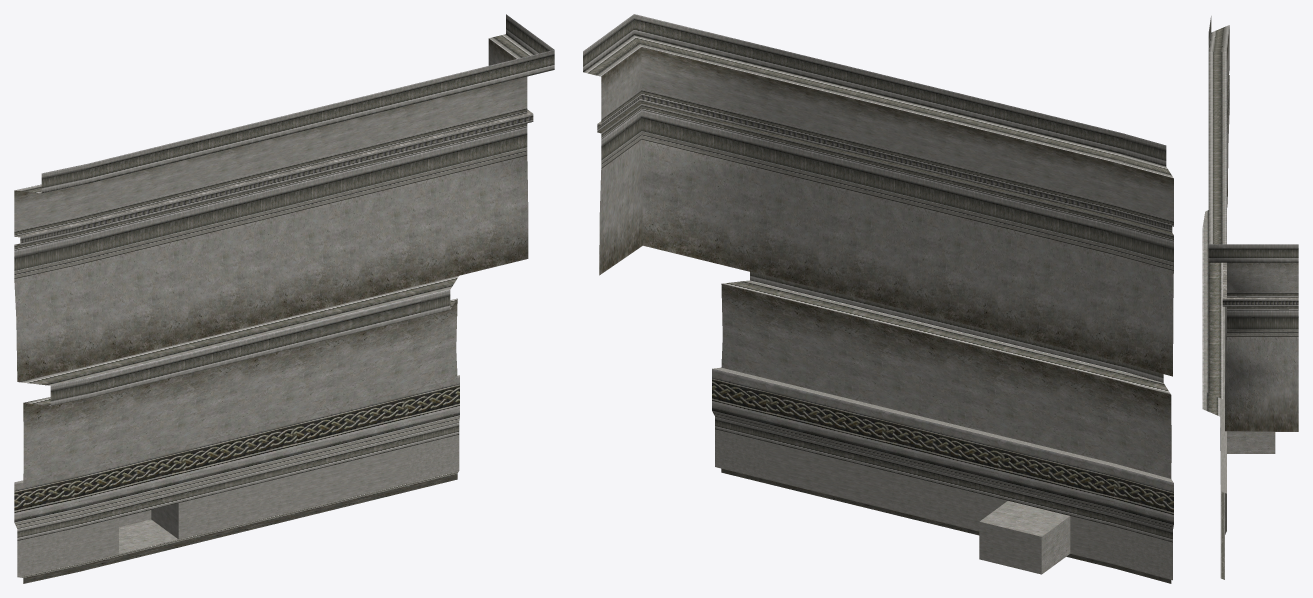
File: DWARF_PALACE_ARKENSTONE_ROOM_WALL01.fbx
The picture shows the model from 3 angles, left to right: view 1: azimuth 30°, elevation 25°; view 2: azimuth 150°, elevation 25°; view 3: azimuth 270°, elevation 25°; orthographic projection. The views are drawn at different scales.
Parts seen in each view (by area): view 1: DWARF_PALACE_ARKENSTONE_ROOM_WALL01; view 2: DWARF_PALACE_ARKENSTONE_ROOM_WALL01; view 3: DWARF_PALACE_ARKENSTONE_ROOM_WALL01.
Part boxes in pixels (x1,y1,x2,y2): DWARF_PALACE_ARKENSTONE_ROOM_WALL01: [14, 14, 554, 583]; DWARF_PALACE_ARKENSTONE_ROOM_WALL01: [583, 14, 1173, 583]; DWARF_PALACE_ARKENSTONE_ROOM_WALL01: [1202, 16, 1298, 579].
Size of the model in its own units: 274960 by 205000 by 46993.
Materials: 8 (8 with a texture image).
